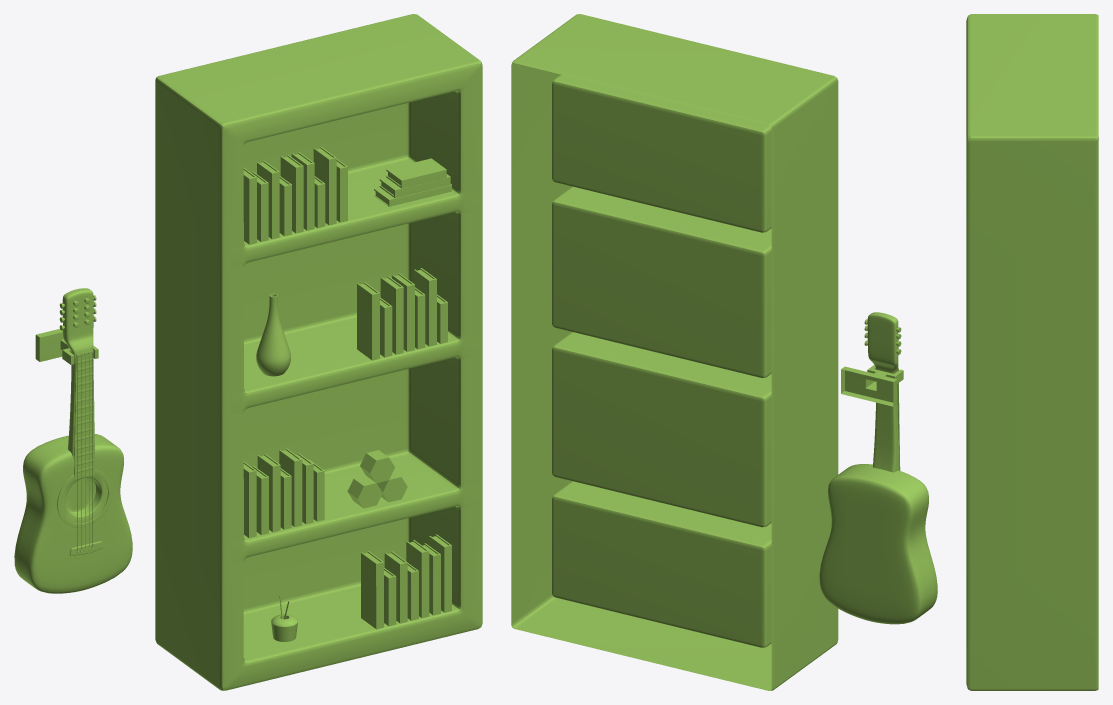
3 renders of one model, left to right at view 1: azimuth 30°, elevation 25°; view 2: azimuth 150°, elevation 25°; view 3: azimuth 270°, elevation 25°, orthographic. The views are drawn at different scales.
Parts seen in each view (by area): view 1: Uv_004; view 2: Uv_004; view 3: Uv_004.
Boxes of the visible parts, x1,y1,x2,y2 form: Uv_004: (14,14,482,690); Uv_004: (511,14,937,690); Uv_004: (966,14,1098,690).
Bounding box in the file's own units: 155 × 207 × 44.54.
